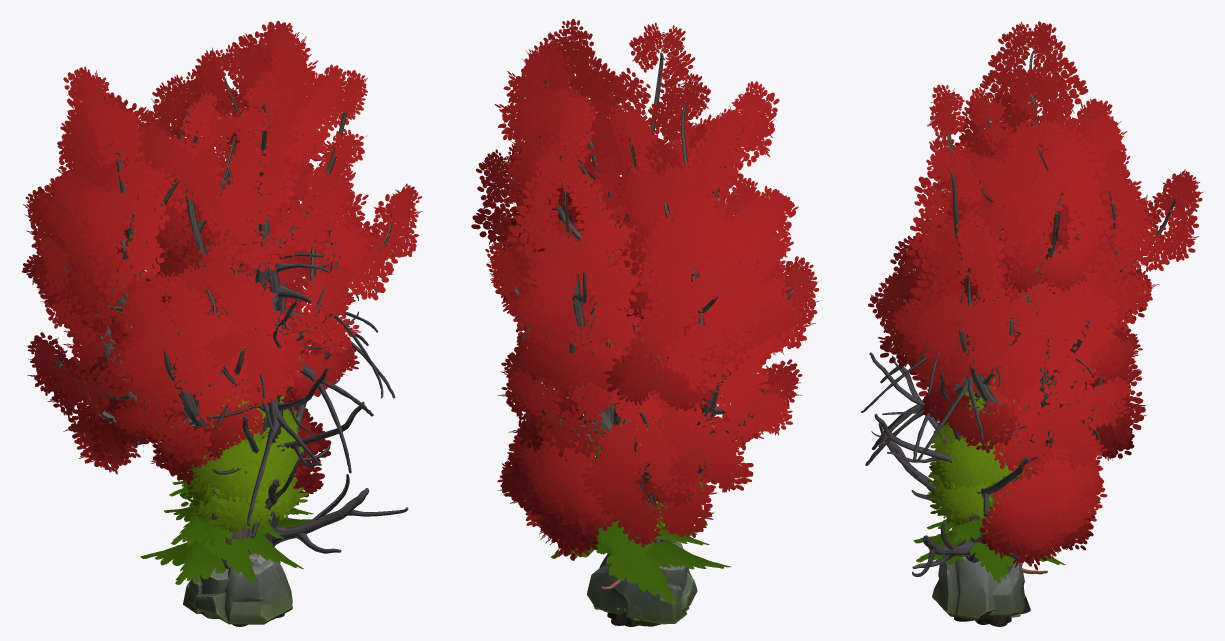
Rendered from nature.glb.
3 views of the same model, side by side, from view 1: azimuth 30°, elevation 25°; view 2: azimuth 150°, elevation 25°; view 3: azimuth 270°, elevation 25° (orthographic). The views are drawn at different scales.
Visible parts, largest first — view 1: TwistedTree_2, TwistedTree_4, Pine_2, DeadTree_2, DeadTree_4, CommonTree_1, Rock_Medium_1, CommonTree_3, Rock_Medium_2, CommonTree_5; view 2: TwistedTree_2, TwistedTree_4, Pine_2, Rock_Medium_2, Rock_Medium_1; view 3: TwistedTree_4, TwistedTree_2, DeadTree_2, Rock_Medium_1, DeadTree_4, Pine_2, CommonTree_1, CommonTree_3, Rock_Medium_2, CommonTree_5.
Boxes of the visible parts, bbox=[...] form: TwistedTree_2: bbox=[21, 66, 367, 626]; TwistedTree_4: bbox=[73, 20, 422, 626]; Pine_2: bbox=[140, 443, 313, 584]; DeadTree_2: bbox=[181, 281, 408, 553]; DeadTree_4: bbox=[165, 220, 395, 525]; CommonTree_1: bbox=[180, 409, 308, 532]; Rock_Medium_1: bbox=[192, 553, 292, 624]; CommonTree_3: bbox=[192, 389, 303, 506]; Rock_Medium_2: bbox=[183, 568, 228, 618]; CommonTree_5: bbox=[188, 437, 293, 529]; TwistedTree_2: bbox=[485, 19, 820, 625]; TwistedTree_4: bbox=[471, 40, 734, 625]; Pine_2: bbox=[551, 434, 730, 603]; Rock_Medium_2: bbox=[586, 564, 689, 624]; Rock_Medium_1: bbox=[599, 541, 697, 626]; TwistedTree_4: bbox=[868, 94, 1203, 626]; TwistedTree_2: bbox=[889, 21, 1153, 626]; DeadTree_2: bbox=[869, 291, 1037, 576]; Rock_Medium_1: bbox=[932, 557, 1024, 620]; DeadTree_4: bbox=[861, 260, 1100, 624]; Pine_2: bbox=[913, 469, 1065, 583]; CommonTree_1: bbox=[926, 424, 1018, 526]; CommonTree_3: bbox=[928, 374, 1019, 532]; Rock_Medium_2: bbox=[988, 561, 1024, 616]; CommonTree_5: bbox=[942, 446, 1036, 518].
Bounding box in the file's own units: 12.67 × 19.08 × 11.29.
Materials: 12 (12 with a texture image).
